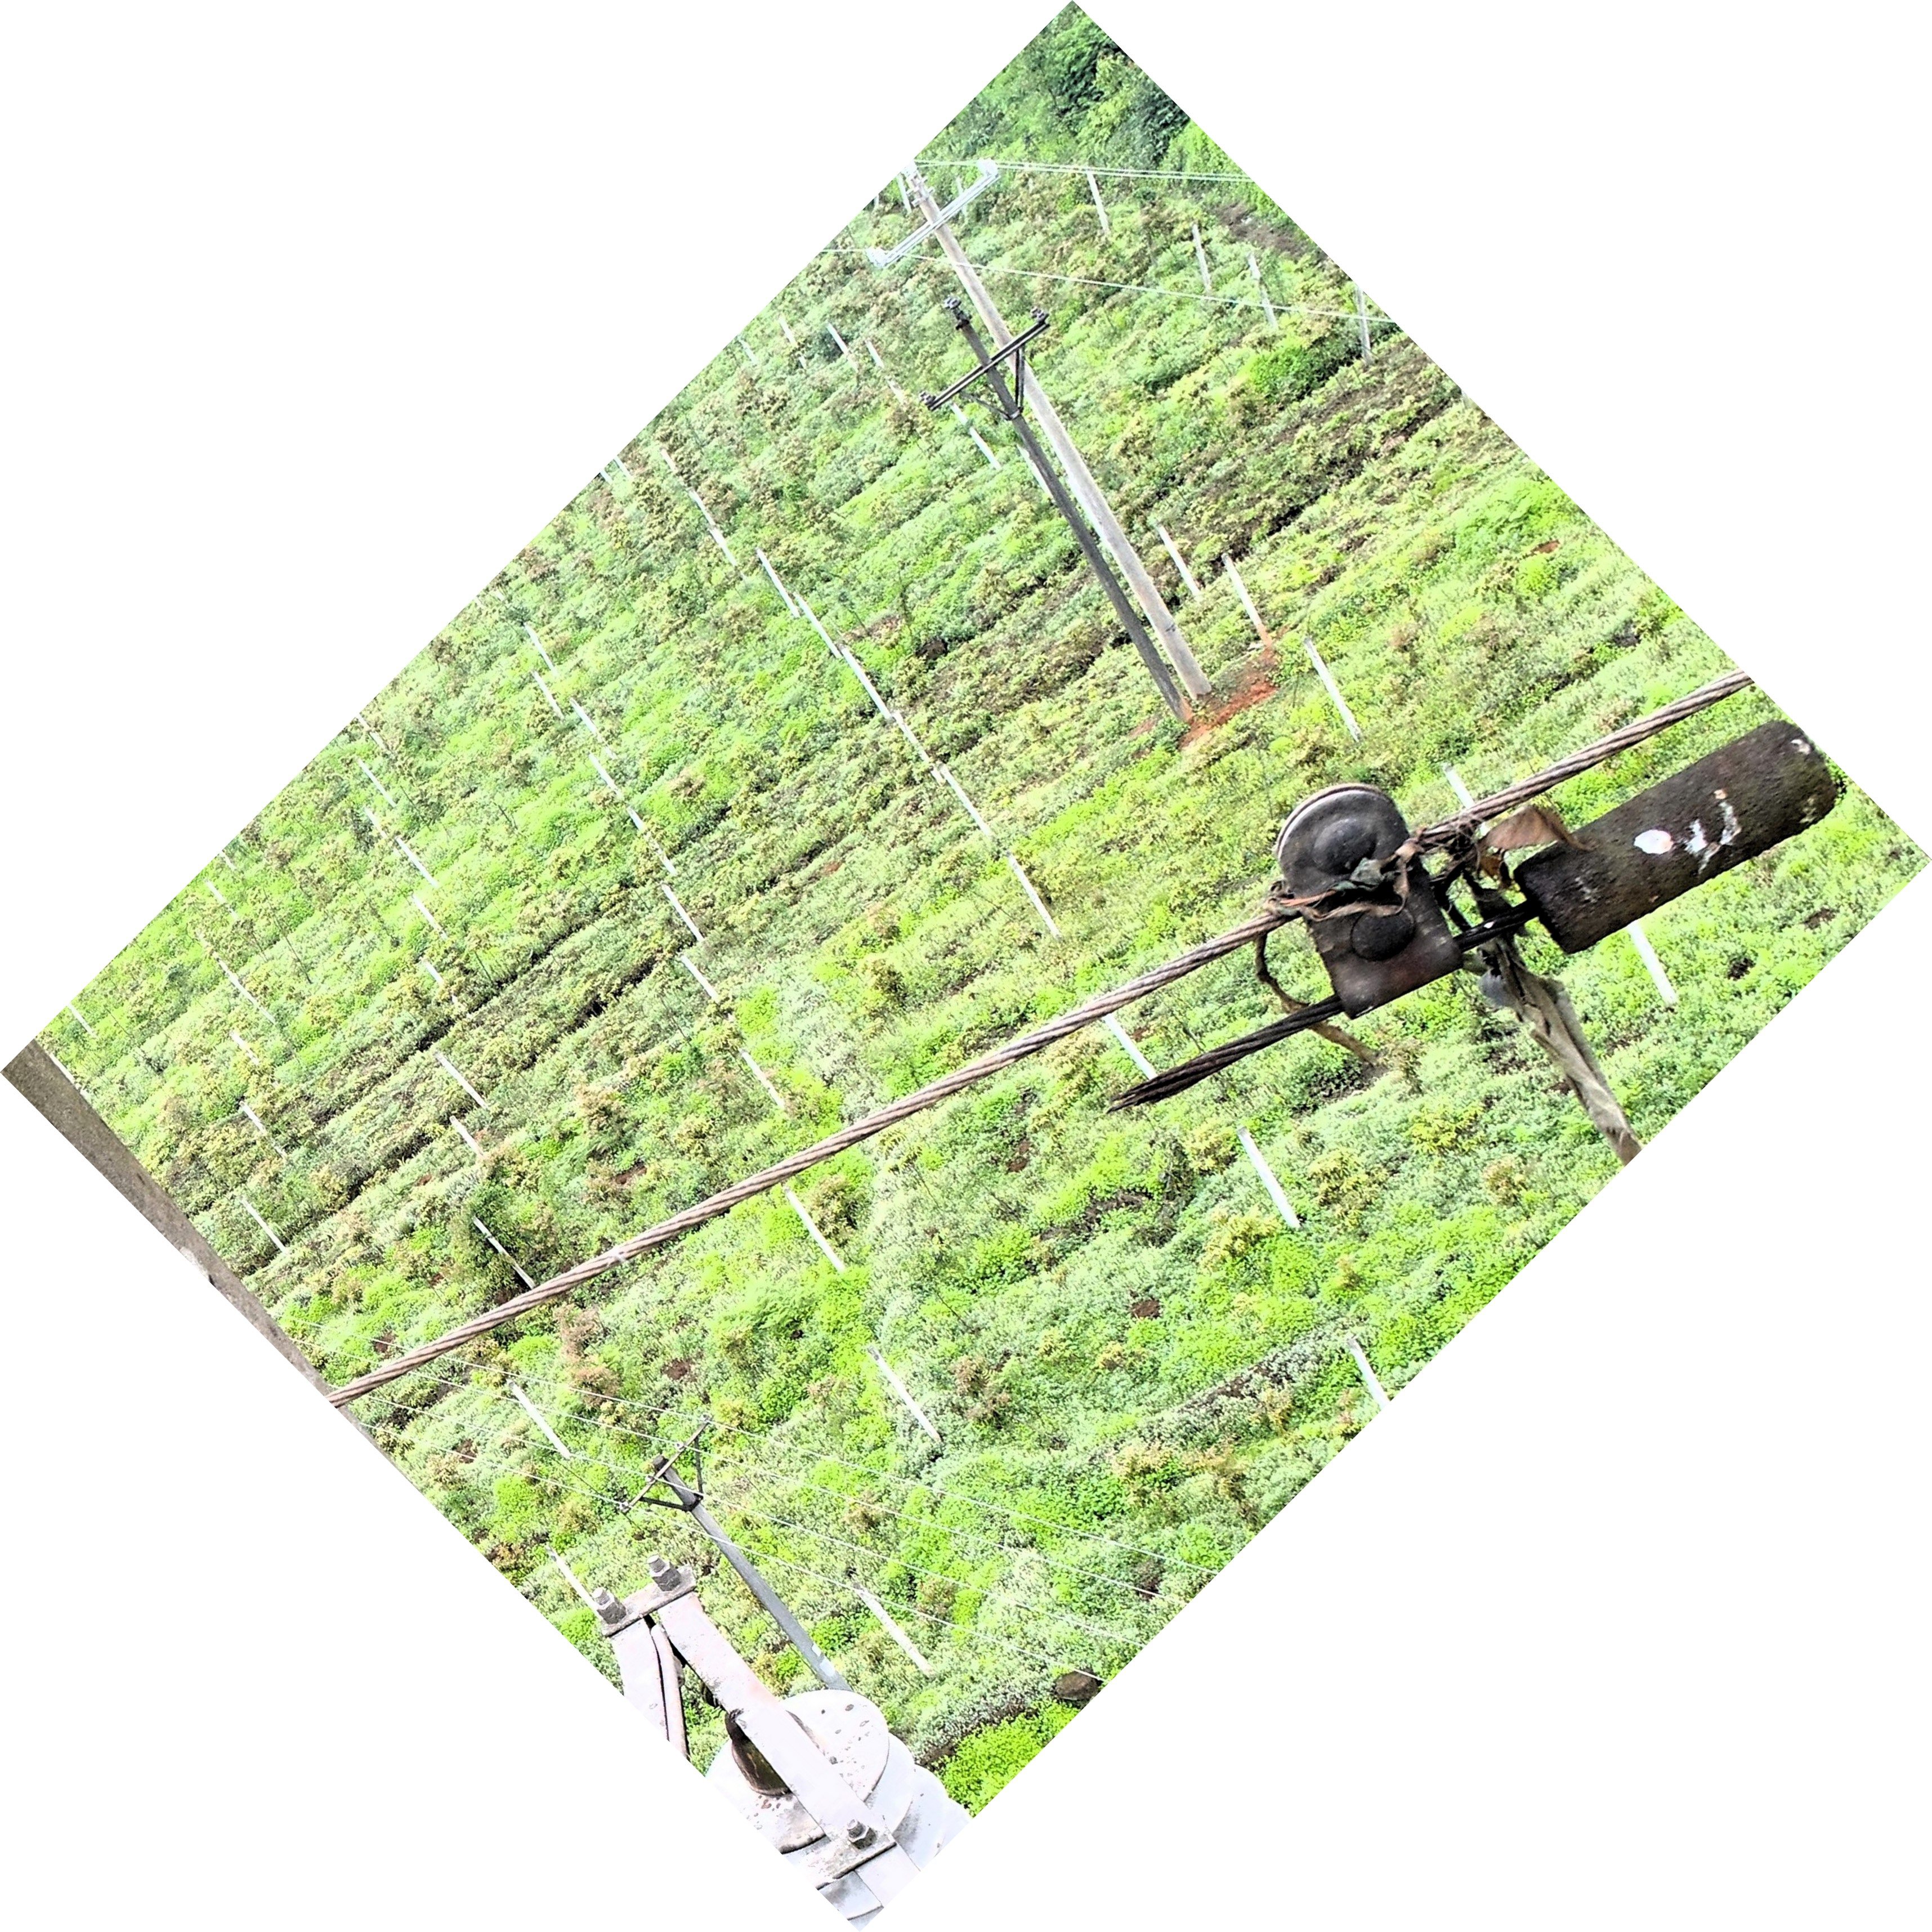Damage of shockproof hammer: (1067, 708, 1851, 1132)
